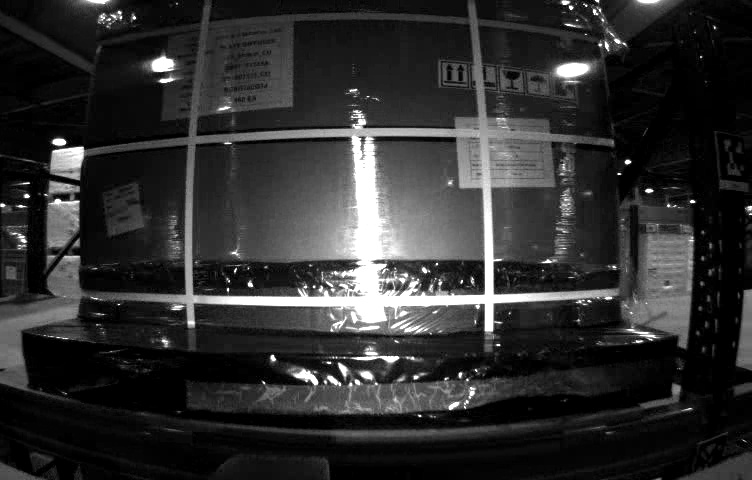True Barcode: (101, 183, 145, 236)
